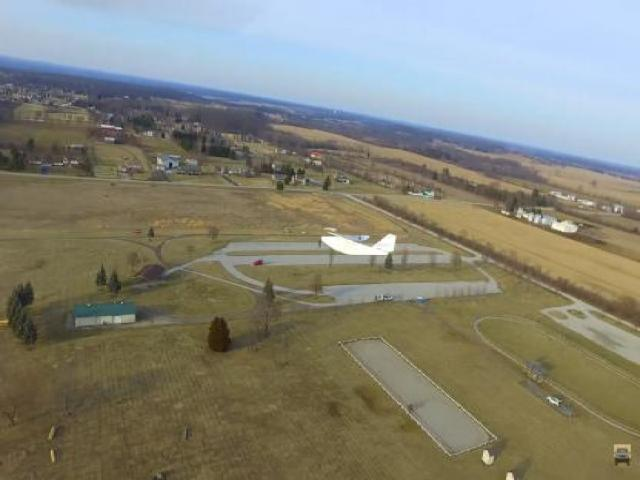uav: (311, 220, 409, 266)
